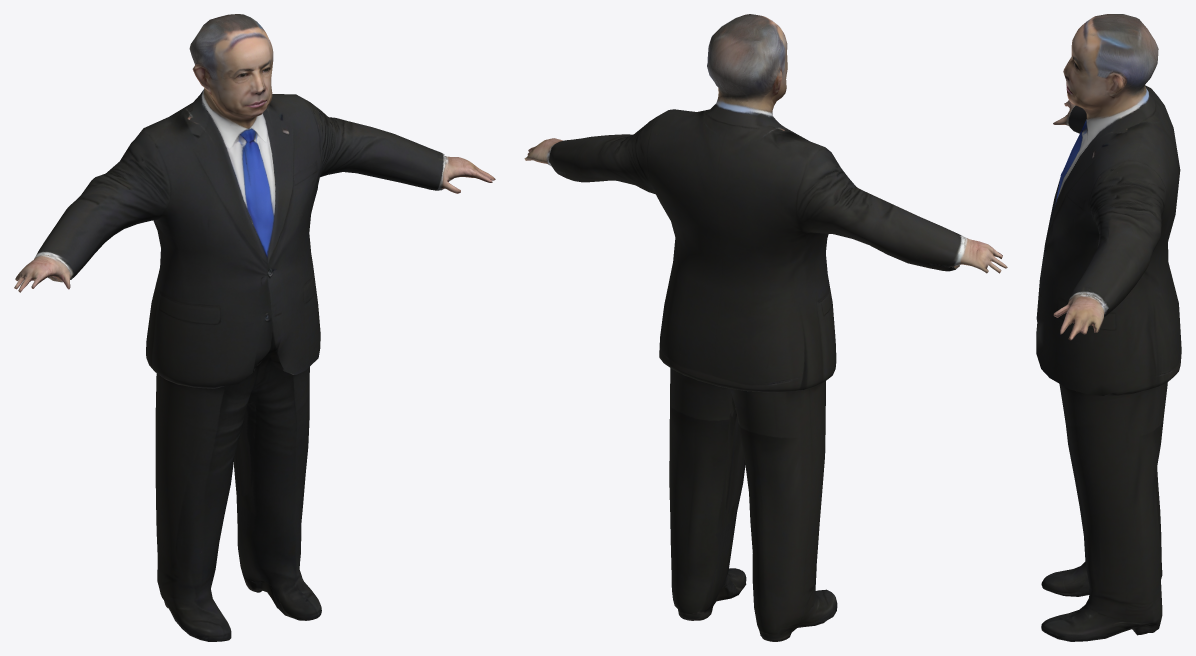
Rendered from Benjamin_Netanyahu.fbx.
3 renders of one model, left to right at view 1: azimuth 30°, elevation 25°; view 2: azimuth 150°, elevation 25°; view 3: azimuth 270°, elevation 25°, orthographic.
Parts seen in each view (by area): view 1: Benjamin_Netanyahu; view 2: Benjamin_Netanyahu; view 3: Benjamin_Netanyahu.
Part boxes in pixels (x1,y1,x2,y2): Benjamin_Netanyahu: [14, 14, 495, 641]; Benjamin_Netanyahu: [524, 14, 1007, 641]; Benjamin_Netanyahu: [1036, 14, 1181, 641].
Size of the model in its own units: 169 by 200 by 44.36.
Materials: 1 (1 with a texture image).
